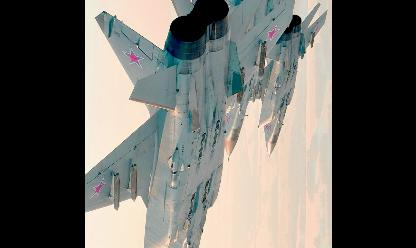Mig31: (85, 0, 298, 247), (192, 0, 303, 164), (248, 0, 326, 163)
